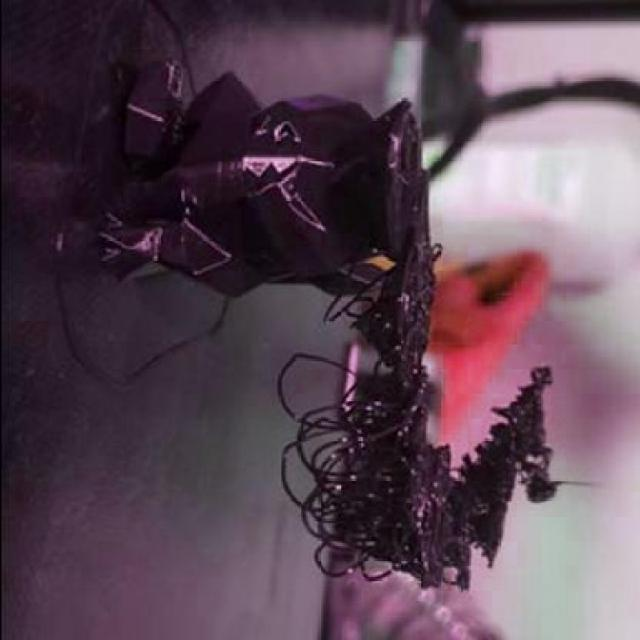spaghetti: (274, 243, 560, 591)
